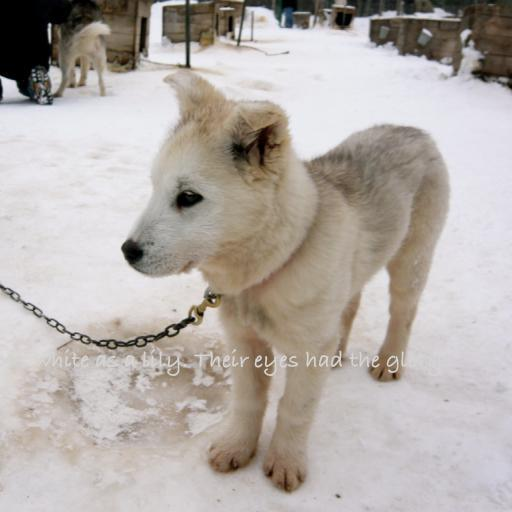Bradley Hand: (1, 349, 443, 376)
